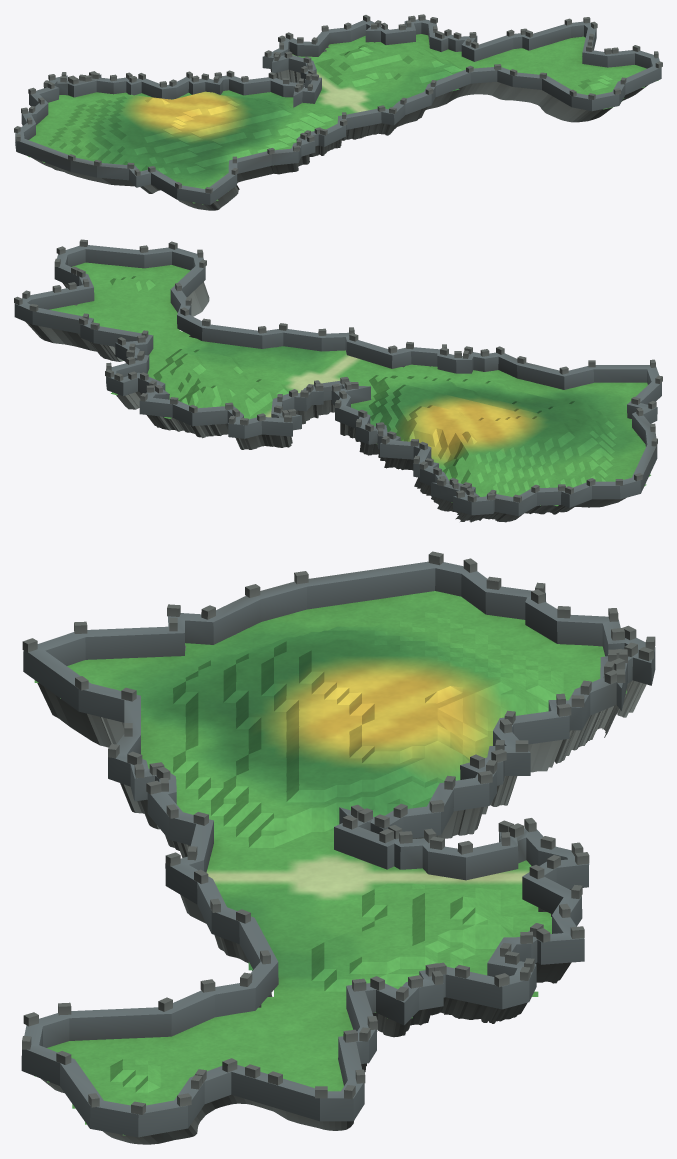
3 renders of one model, top to bottom at view 1: azimuth 30°, elevation 25°; view 2: azimuth 150°, elevation 25°; view 3: azimuth 270°, elevation 25°, orthographic. The views are drawn at different scales.
Parts seen in each view (by area): view 1: ground_bafa26ad; view 2: ground_bafa26ad; view 3: ground_bafa26ad.
Part boxes in pixels (left/top/right/bottom): ground_bafa26ad: left=14, top=14, right=662, bottom=210; ground_bafa26ad: left=14, top=239, right=662, bottom=522; ground_bafa26ad: left=21, top=551, right=655, bottom=1144.
Bounding box in the file's own units: 157 × 8.1 × 75.49.
Materials: 2 (1 with a texture image).
